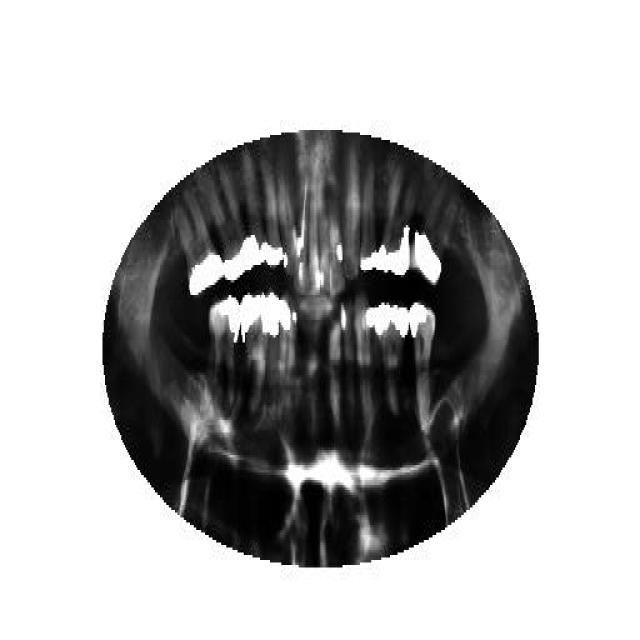Fillings: (206, 167, 258, 285), (410, 185, 456, 287), (376, 168, 416, 278), (178, 198, 222, 298), (374, 300, 410, 415), (208, 295, 242, 407), (409, 300, 436, 432), (242, 290, 266, 418), (244, 158, 268, 268), (276, 292, 296, 410), (354, 300, 374, 418), (262, 165, 282, 270), (360, 168, 378, 272), (266, 290, 279, 418)
